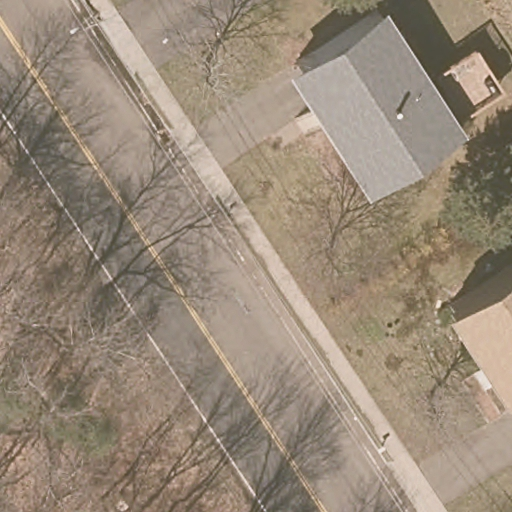DT: (69, 9, 104, 36)
